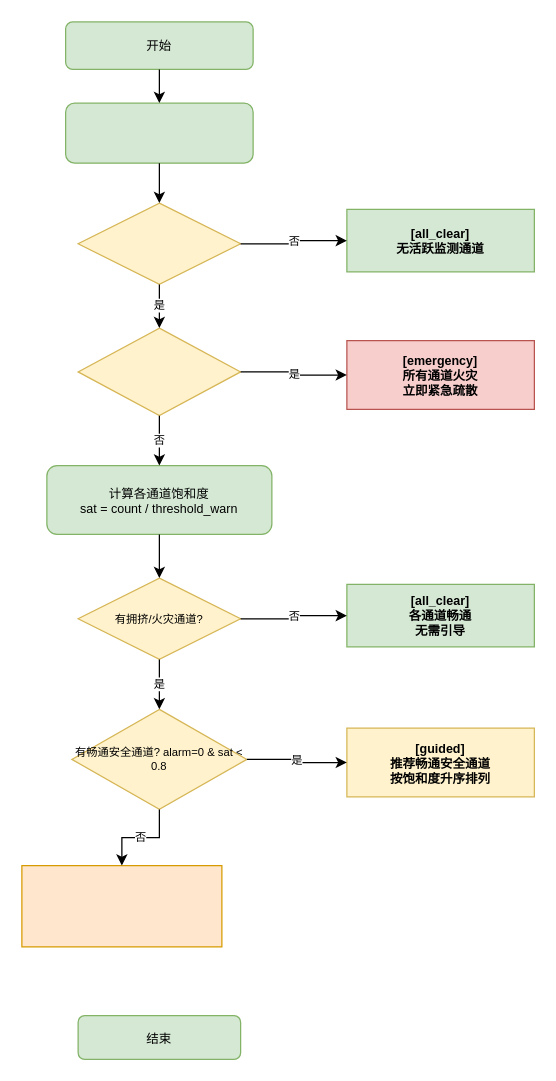
The diagram is 556 pixels wide and 1081 high, and some of its shapes have lost their labels. The shapes that lost their labels are listed below. From the top down, each one's box as (x1, y1, x2, y2) in pixels, then its label:
(64, 102, 253, 163): 快照所有活跃 通道状态
(77, 202, 241, 284): 有活跃通道?
(77, 327, 241, 416): 所有安全通道 均有火灾?
(21, 864, 222, 947): [degraded] 全部通道接近容量上限 建议分批通行
